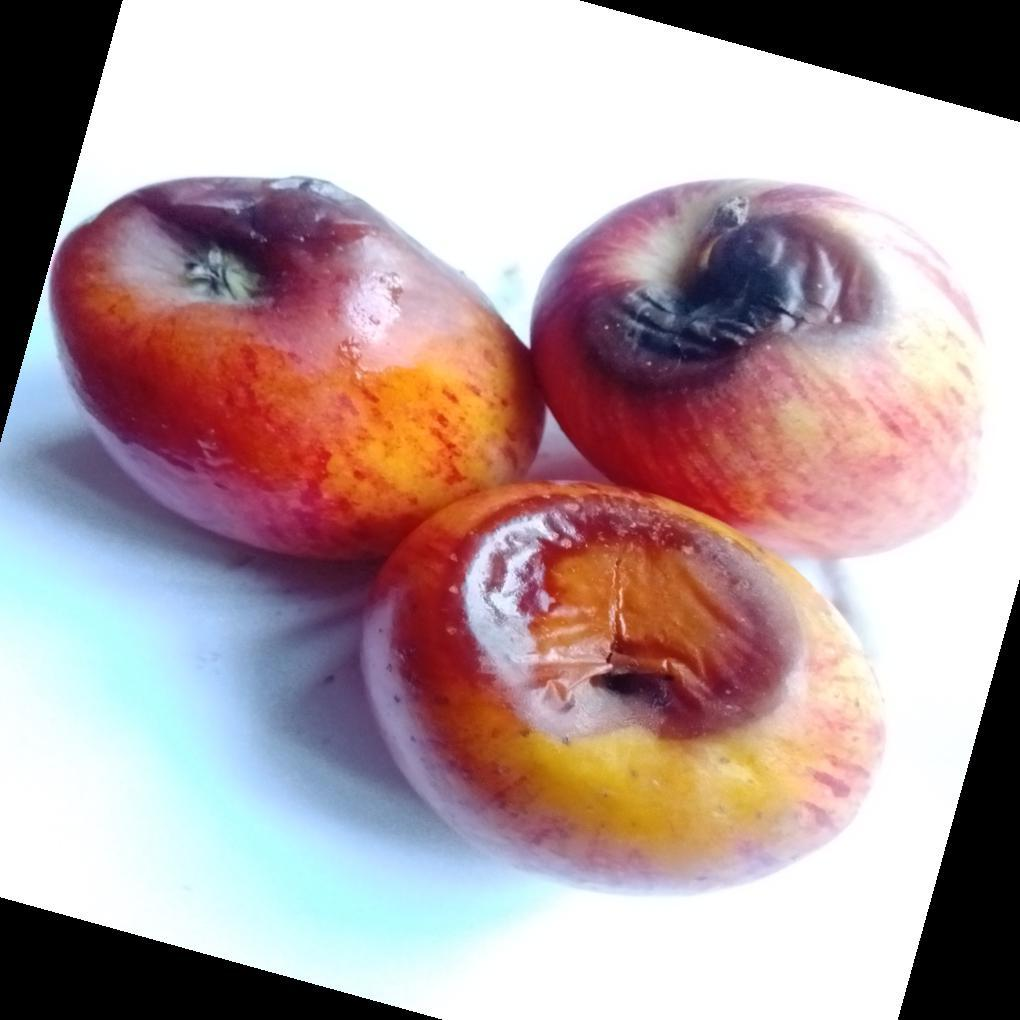FreshOrange: (43, 174, 1003, 900)
